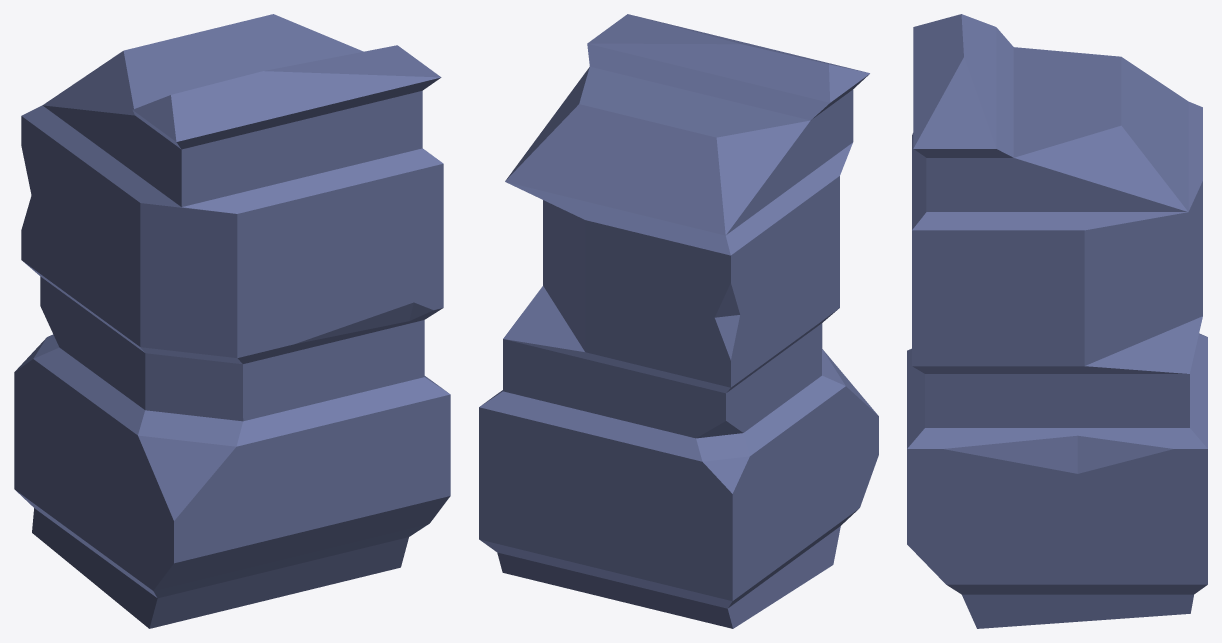
File: column_2_dstr_2.fbx
3 renders of one model, left to right at view 1: azimuth 30°, elevation 25°; view 2: azimuth 150°, elevation 25°; view 3: azimuth 270°, elevation 25°, orthographic. The views are drawn at different scales.
Visible parts, largest first — view 1: column_2_dstr_2; view 2: column_2_dstr_2; view 3: column_2_dstr_2.
Part boxes in pixels (x1,y1,x2,y2): column_2_dstr_2: (14, 14, 450, 628); column_2_dstr_2: (479, 14, 878, 628); column_2_dstr_2: (907, 14, 1207, 628).
Bounding box in the file's own units: 2.01 × 3.72 × 2.01.
